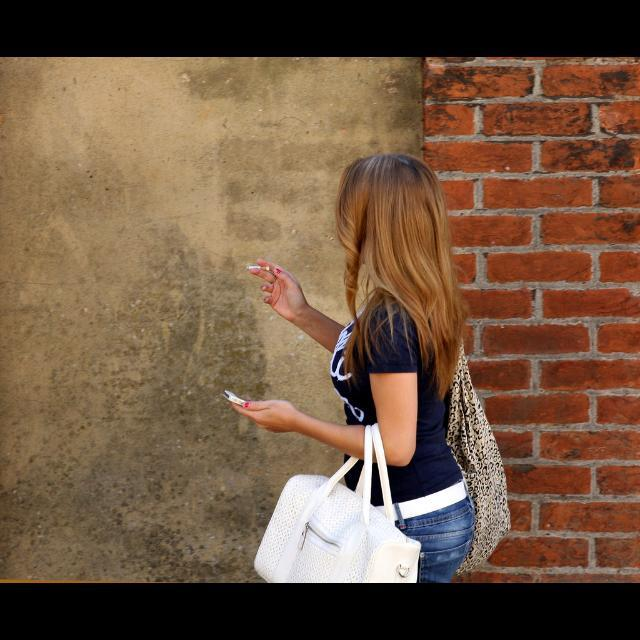rokok: (242, 262, 270, 274)
